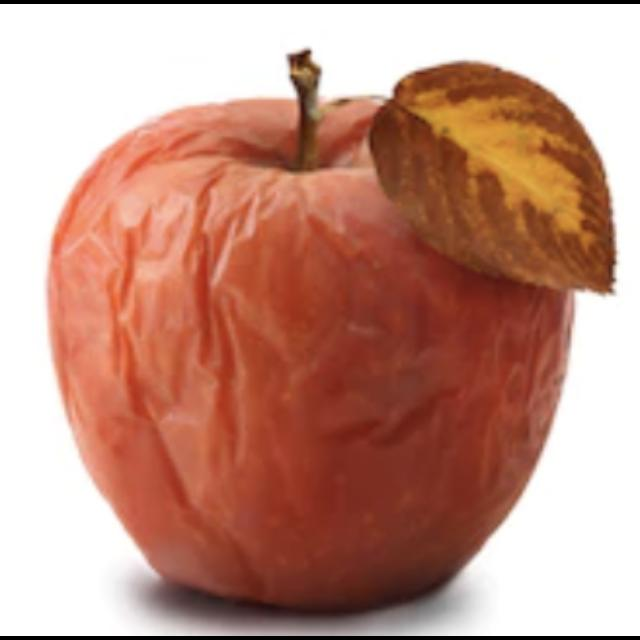Apel Tidak Segar: (48, 39, 604, 618)
